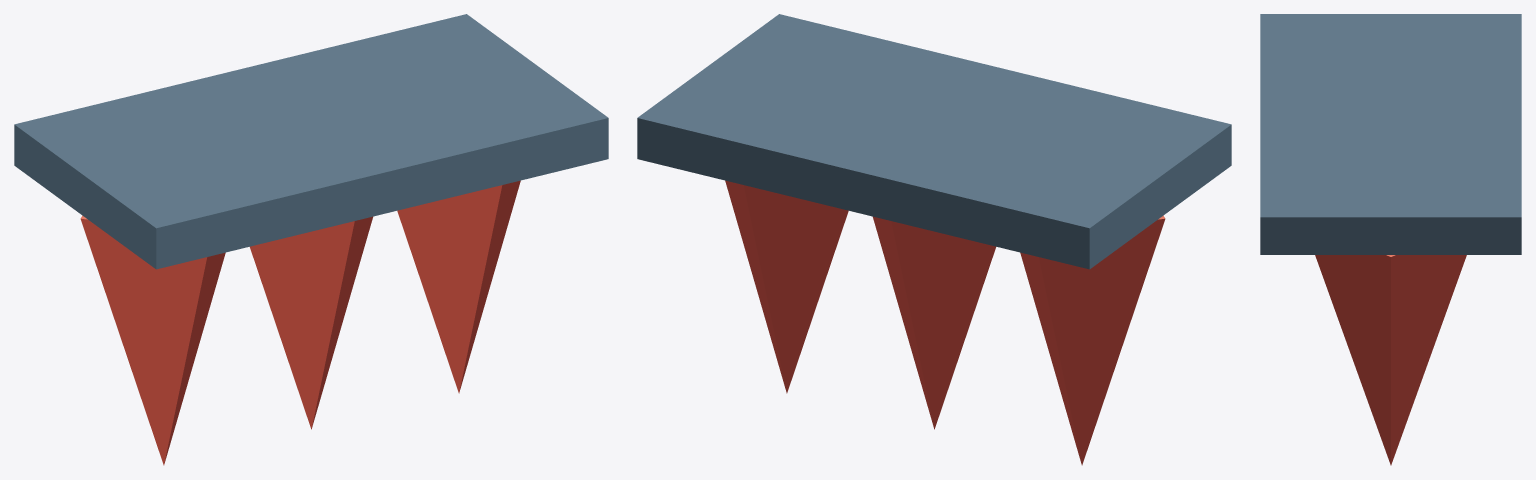
The model's file is Spikes_Down.gltf.
3 renders of one model, left to right at view 1: azimuth 30°, elevation 25°; view 2: azimuth 150°, elevation 25°; view 3: azimuth 270°, elevation 25°, orthographic. The views are drawn at different scales.
Visible parts, largest first — view 1: Spikes_Down_baked; view 2: Spikes_Down_baked; view 3: Spikes_Down_baked.
Boxes of the visible parts, x1=… form: Spikes_Down_baked: x1=14, y1=14, x2=608, y2=465; Spikes_Down_baked: x1=637, y1=14, x2=1231, y2=465; Spikes_Down_baked: x1=1260, y1=14, x2=1521, y2=465.
Bounding box in the file's own units: 0.9394 × 0.6 × 0.5.
